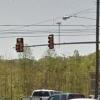Traffic light: (8, 27, 62, 57)
